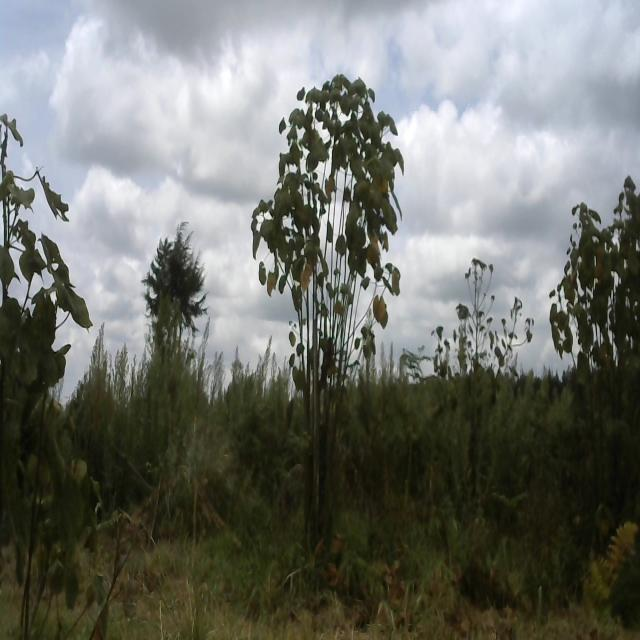cedrus: (142, 212, 213, 359)
other: (246, 66, 409, 558), (0, 105, 101, 640), (570, 206, 636, 496)
